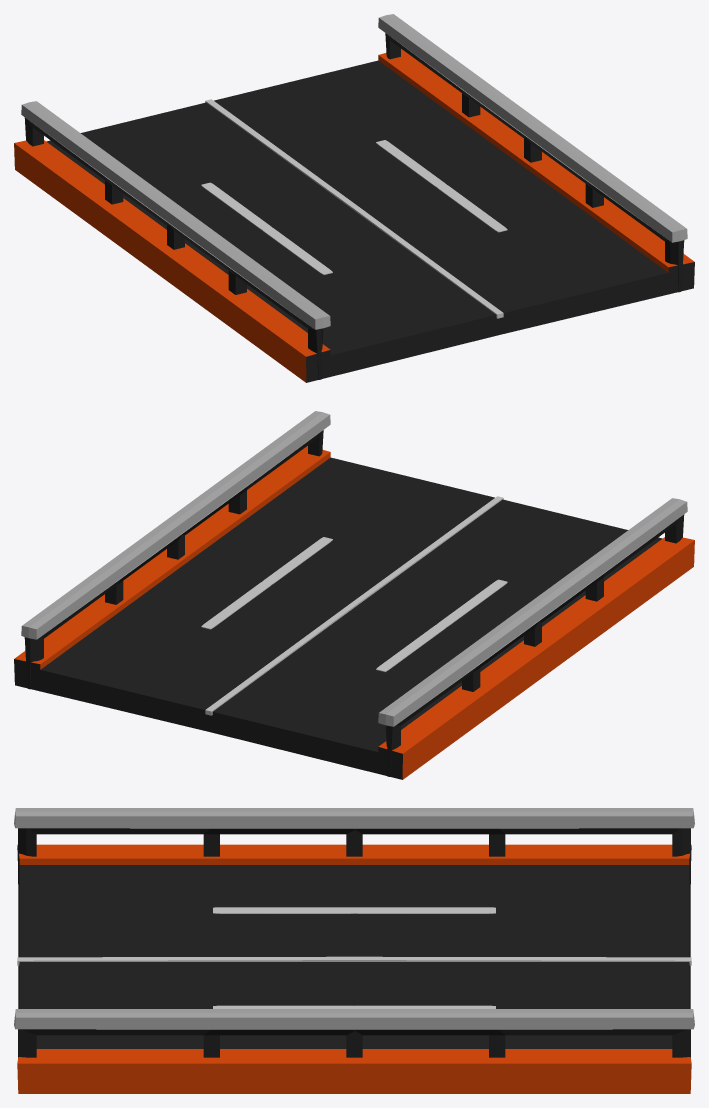
File: Road.fbx
3 renders of one model, top to bottom at view 1: azimuth 30°, elevation 25°; view 2: azimuth 150°, elevation 25°; view 3: azimuth 270°, elevation 25°, orthographic. The views are drawn at different scales.
Parts seen in each view (by area): view 1: Plane.003; view 2: Plane.003; view 3: Plane.003.
Boxes of the visible parts, bbox=[...] form: Plane.003: bbox=[14, 14, 694, 382]; Plane.003: bbox=[14, 411, 694, 779]; Plane.003: bbox=[14, 808, 694, 1093].
Size of the model in its own units: 449 by 69.4 by 590.
